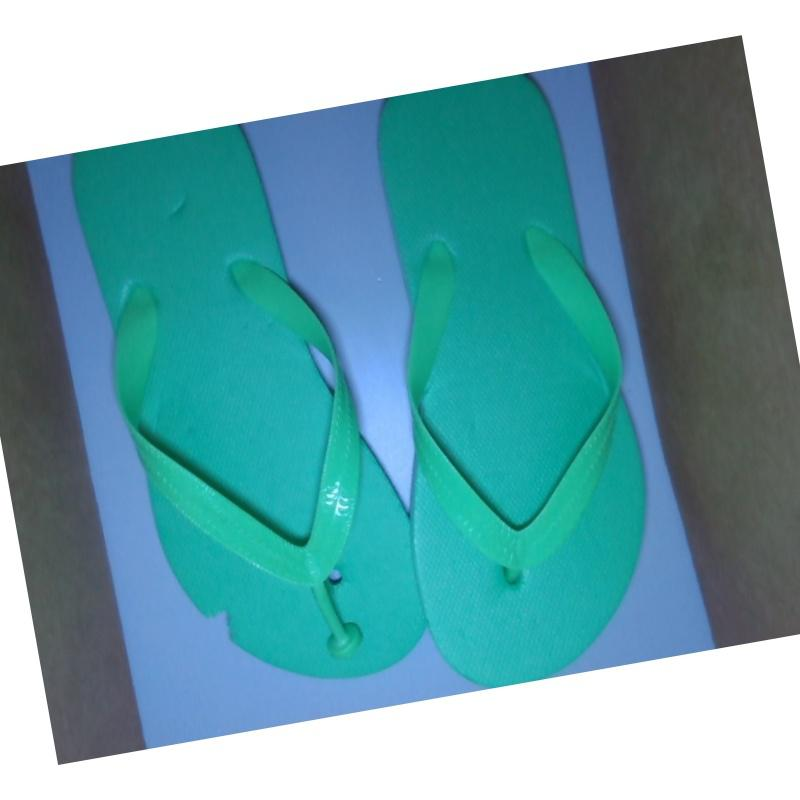chipped: (193, 592, 245, 657)
detached: (317, 609, 375, 673)
